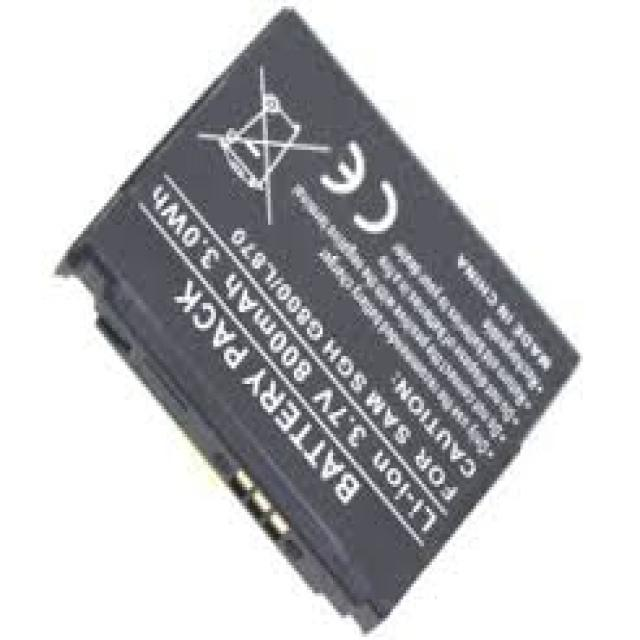non-organic waste: (54, 6, 579, 631)
